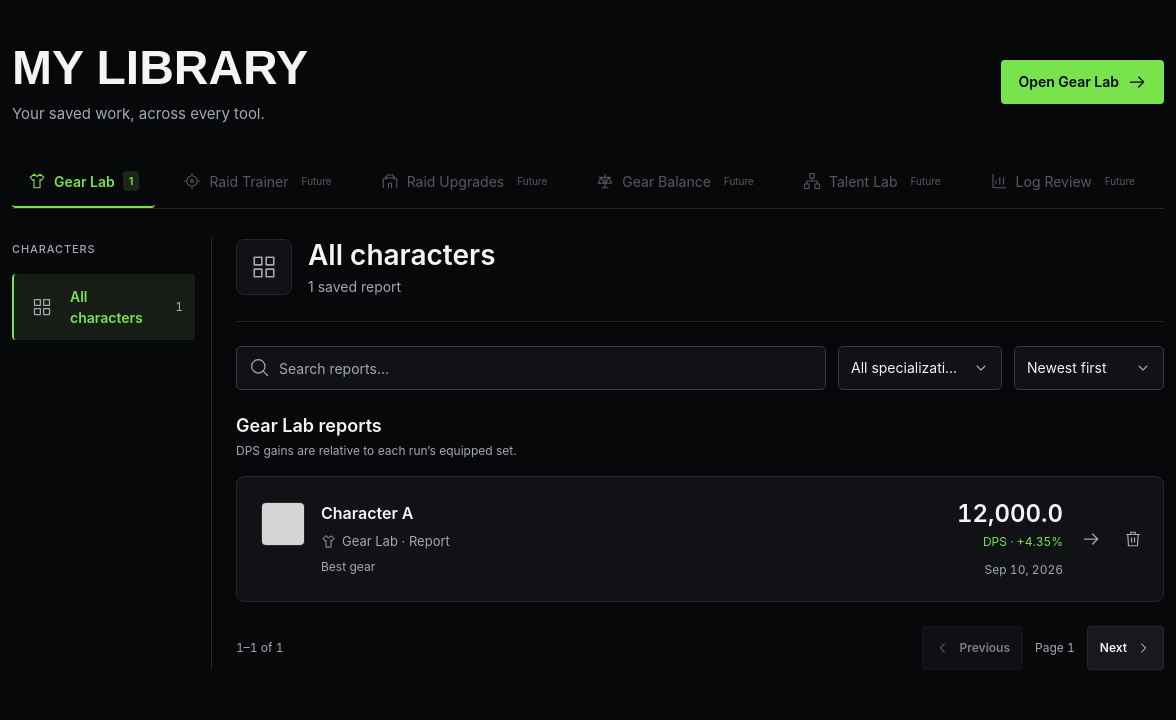
Test: keeps same-account rows while paging and never scrolls the window
Expected: the text "Character A" is shown, top-left (321, 503), bottom-right (414, 523)
Step 1. Click the button "Next" → (1125,648), box top-left (1087, 626), bottom-right (1164, 670)
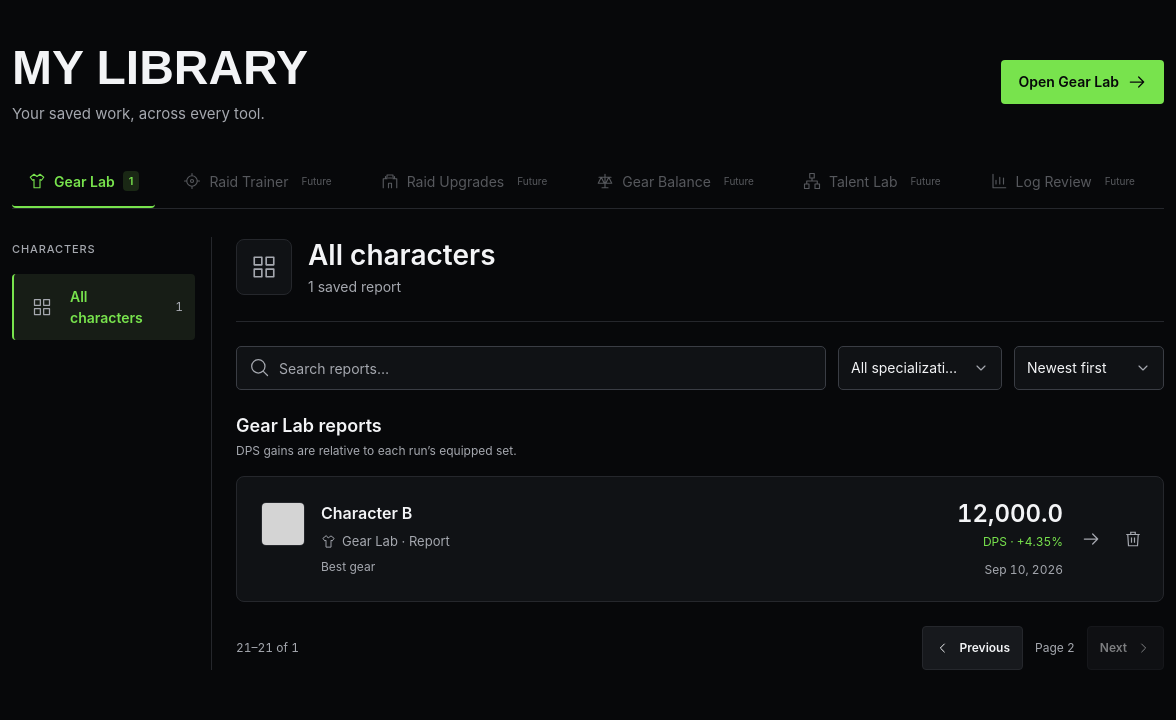
Now the text "Character B" is shown, box top-left (321, 503), bottom-right (412, 523)
